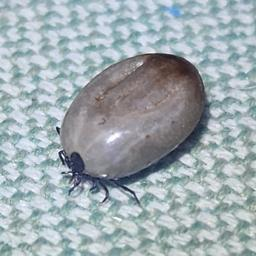Ixodes scapularis: (55, 50, 205, 204)
